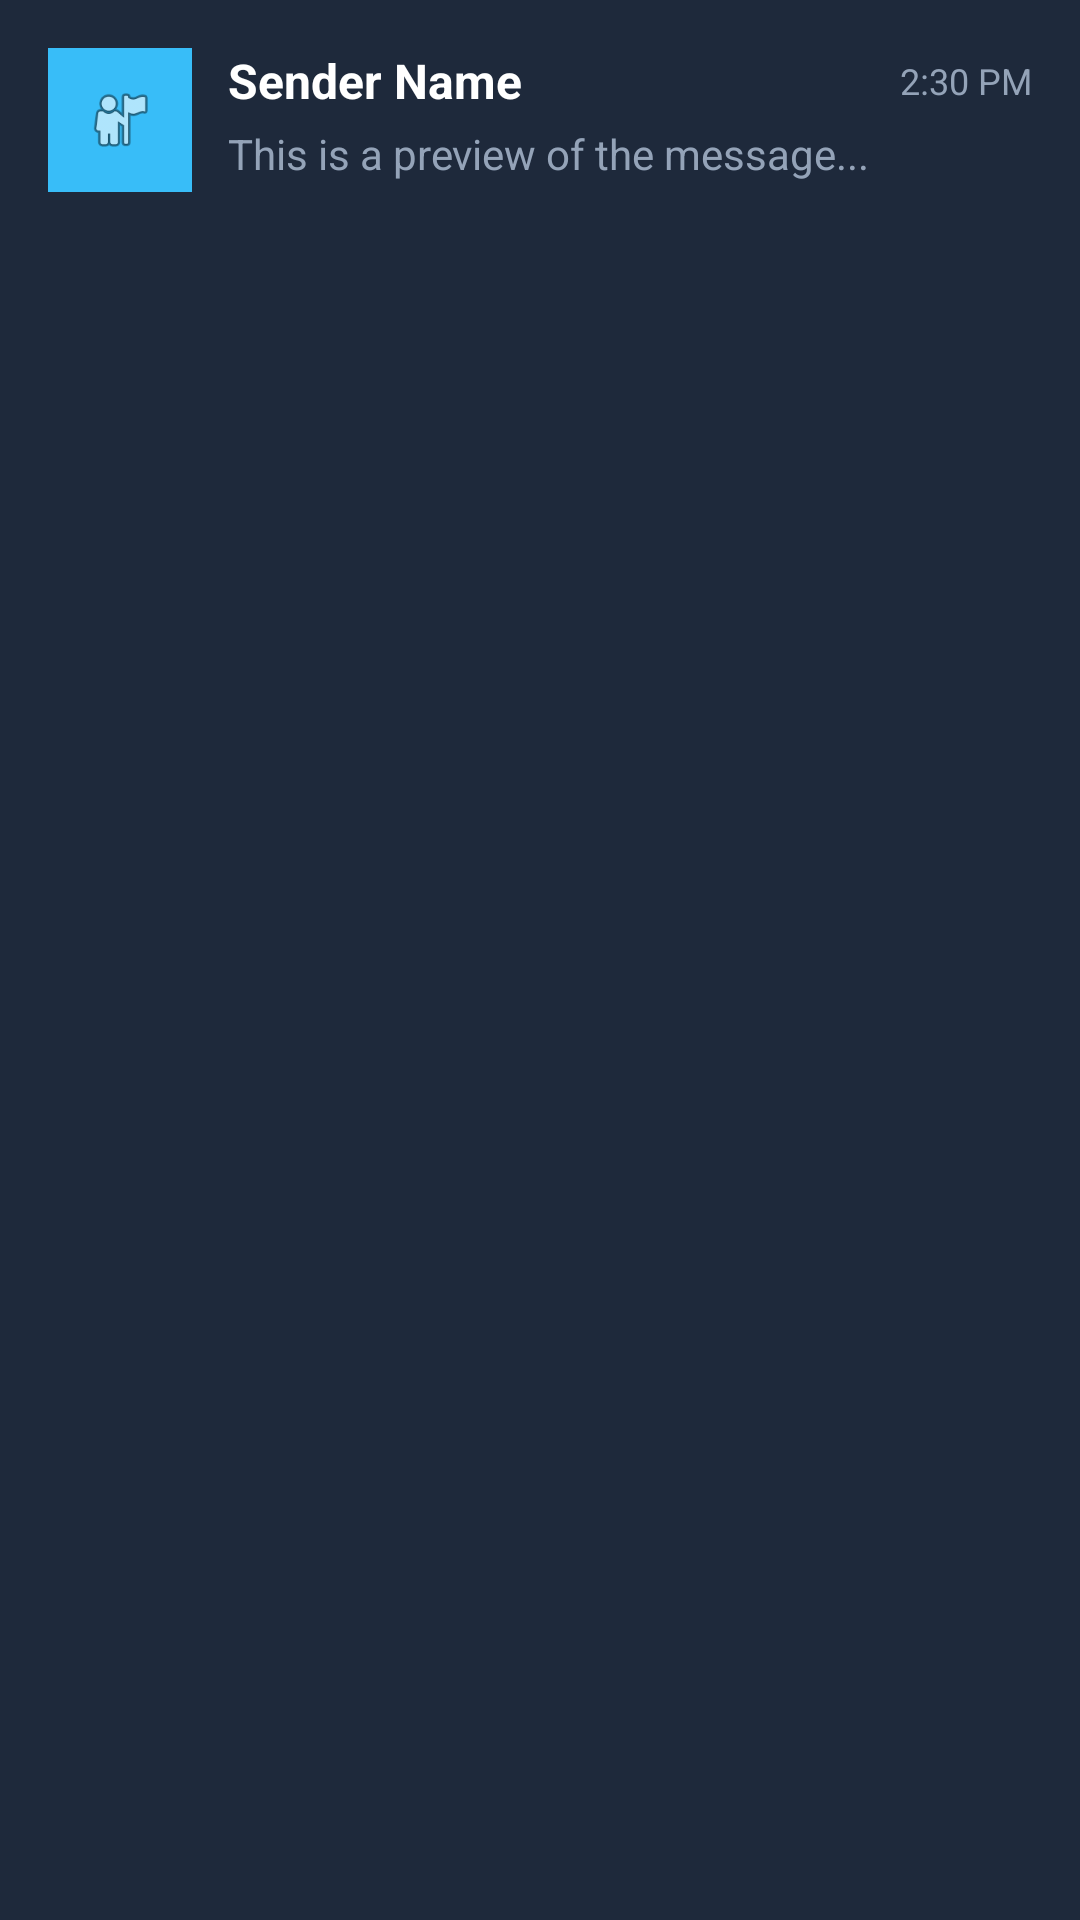

Where to tap for icons on this 1080x1920 app screen, as (x,y):
myplaces: (120,120)
